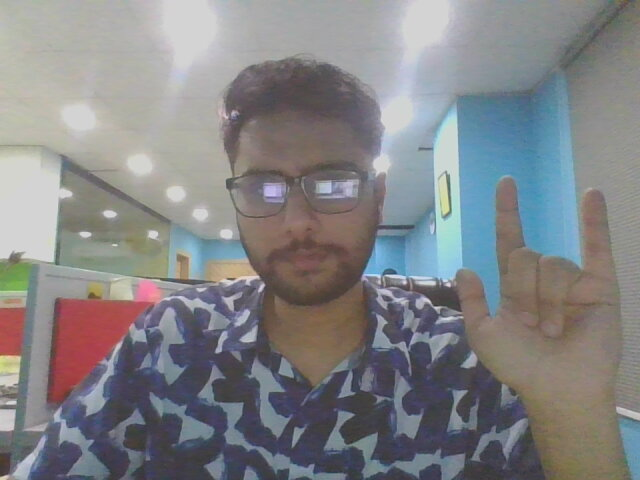iloveyou: (443, 172, 640, 406)
